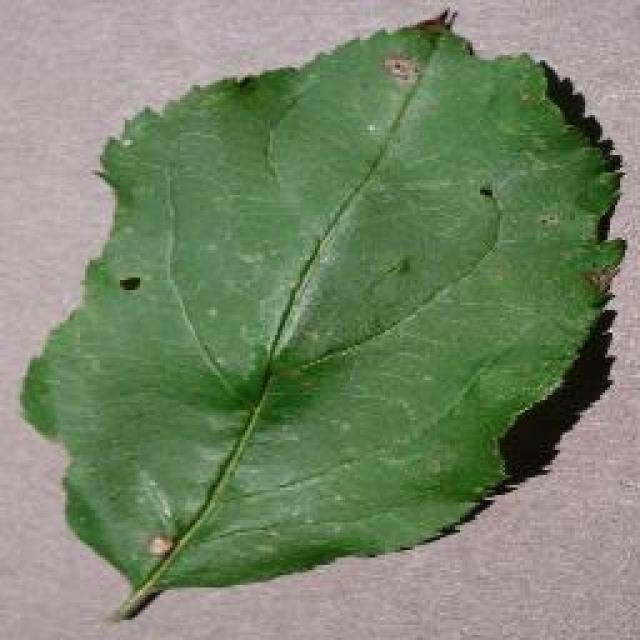apple black rot: (18, 5, 628, 617)
